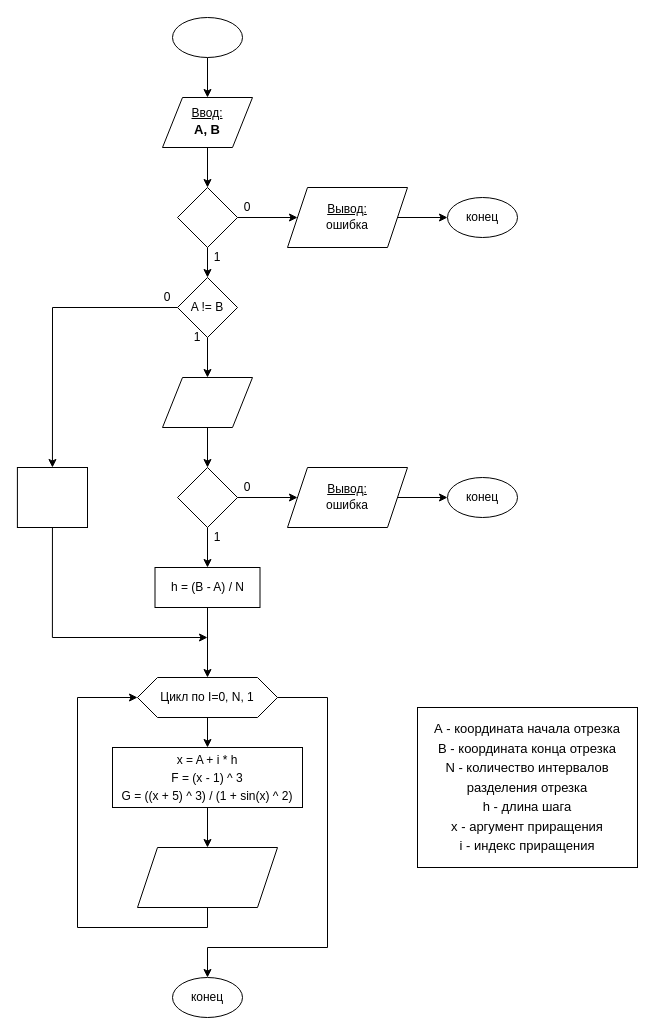
The diagram is 656 pixels wide and 1035 high, and some of its shapes have lost their labels. The centre of each missing label's shape, as x and y in pixels:
"A <= B" goes at (x=207, y=217).
"h = 0 N = 0" goes at (x=52, y=497).
"N > 0" goes at (x=207, y=497).
"Ввод: N" goes at (x=207, y=402).
"Вывод в таблице: i, x, F, G" goes at (x=207, y=877).
"начало" goes at (x=207, y=37).
